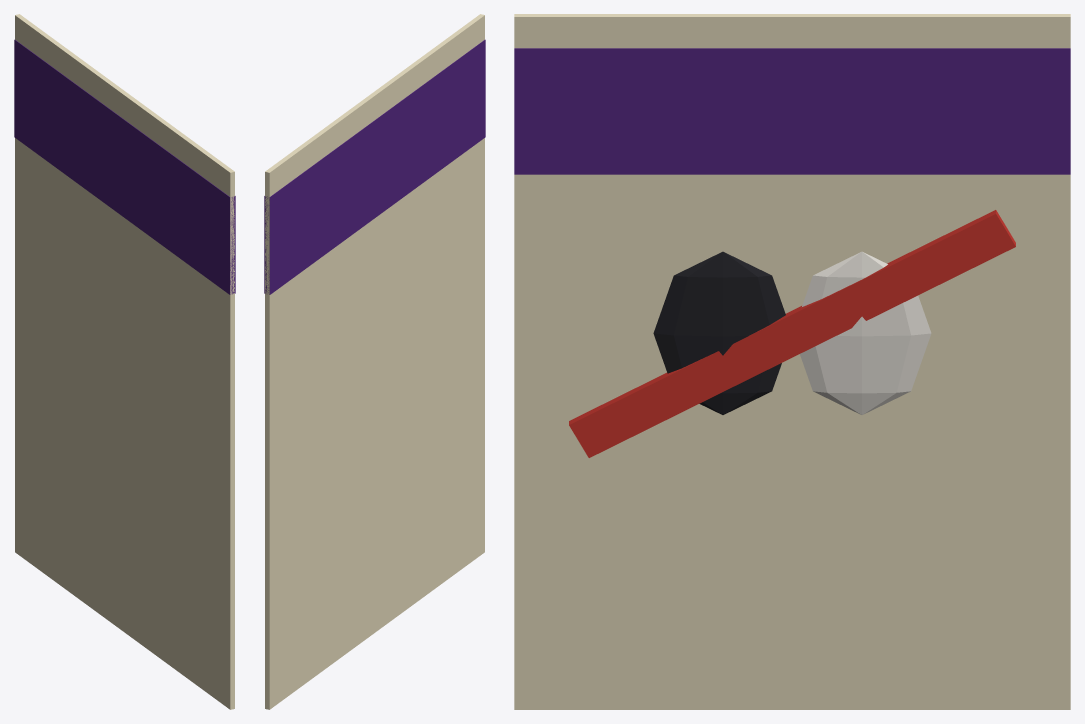
File: theater_poster.glb
3 views of the same model, side by side, from view 1: azimuth 30°, elevation 25°; view 2: azimuth 150°, elevation 25°; view 3: azimuth 270°, elevation 25° (orthographic). The views are drawn at different scales.
Visible parts, largest first — view 1: sheet_poster_cream, band_program_purple; view 2: sheet_poster_cream, band_program_purple; view 3: sheet_poster_cream, band_program_purple, cross_poster_red, masks_mask_black, masks_mask_white.
Part boxes in pixels (x1=…): sheet_poster_cream: x1=15, y1=14, x2=234, y2=709; band_program_purple: x1=14, y1=39, x2=235, y2=294; sheet_poster_cream: x1=265, y1=14, x2=484, y2=709; band_program_purple: x1=264, y1=39, x2=485, y2=294; sheet_poster_cream: x1=514, y1=14, x2=1070, y2=709; band_program_purple: x1=514, y1=48, x2=1070, y2=174; cross_poster_red: x1=569, y1=210, x2=1015, y2=457; masks_mask_black: x1=653, y1=251, x2=785, y2=414; masks_mask_white: x1=800, y1=251, x2=931, y2=414.
Bounding box in the file's own units: 0.026 × 1.1 × 0.8.
